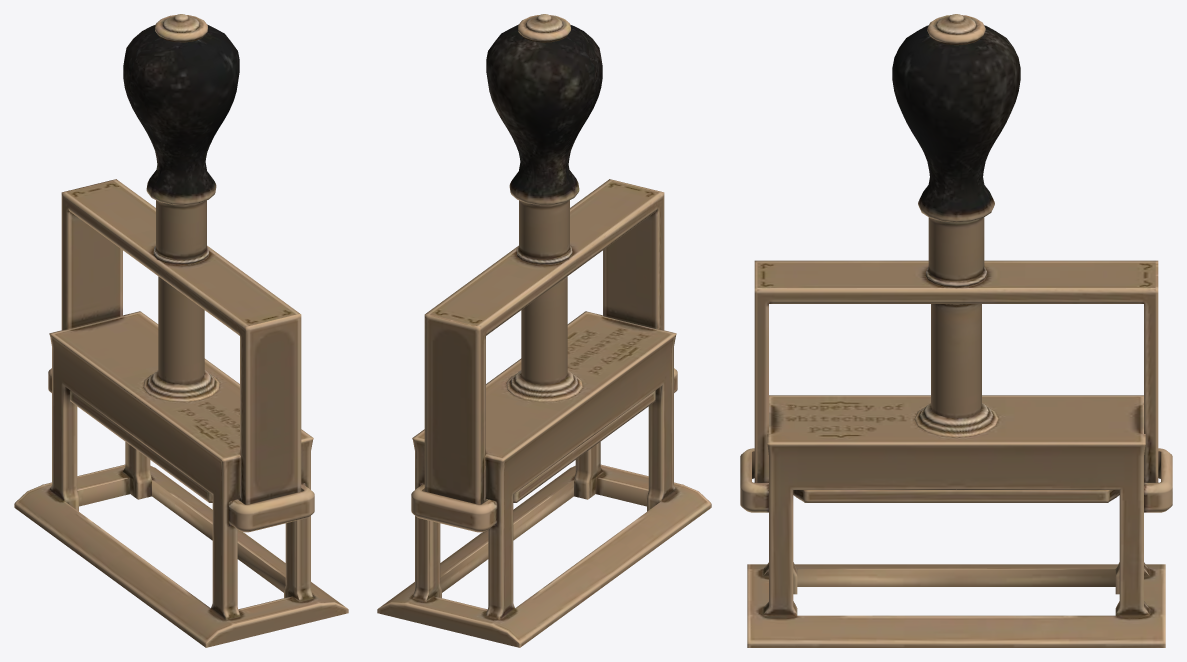
File: old_victorian_rubber_stamp.glb
The picture shows the model from 3 angles, left to right: view 1: azimuth 30°, elevation 25°; view 2: azimuth 150°, elevation 25°; view 3: azimuth 270°, elevation 25°; orthographic projection. The views are drawn at different scales.
Parts seen in each view (by area): view 1: Cube, Cube.001; view 2: Cube, Cube.001; view 3: Cube, Cube.001.
Part boxes in pixels (left/top/right/bottom): Cube: left=14, top=14, right=348, bottom=647; Cube.001: left=123, top=24, right=239, bottom=205; Cube: left=377, top=14, right=711, bottom=647; Cube.001: left=486, top=24, right=602, bottom=205; Cube: left=740, top=14, right=1172, bottom=647; Cube.001: left=892, top=25, right=1020, bottom=222.
Bounding box in the file's own units: 0.5472 × 2 × 1.32.
Materials: 1 (1 with a texture image).
